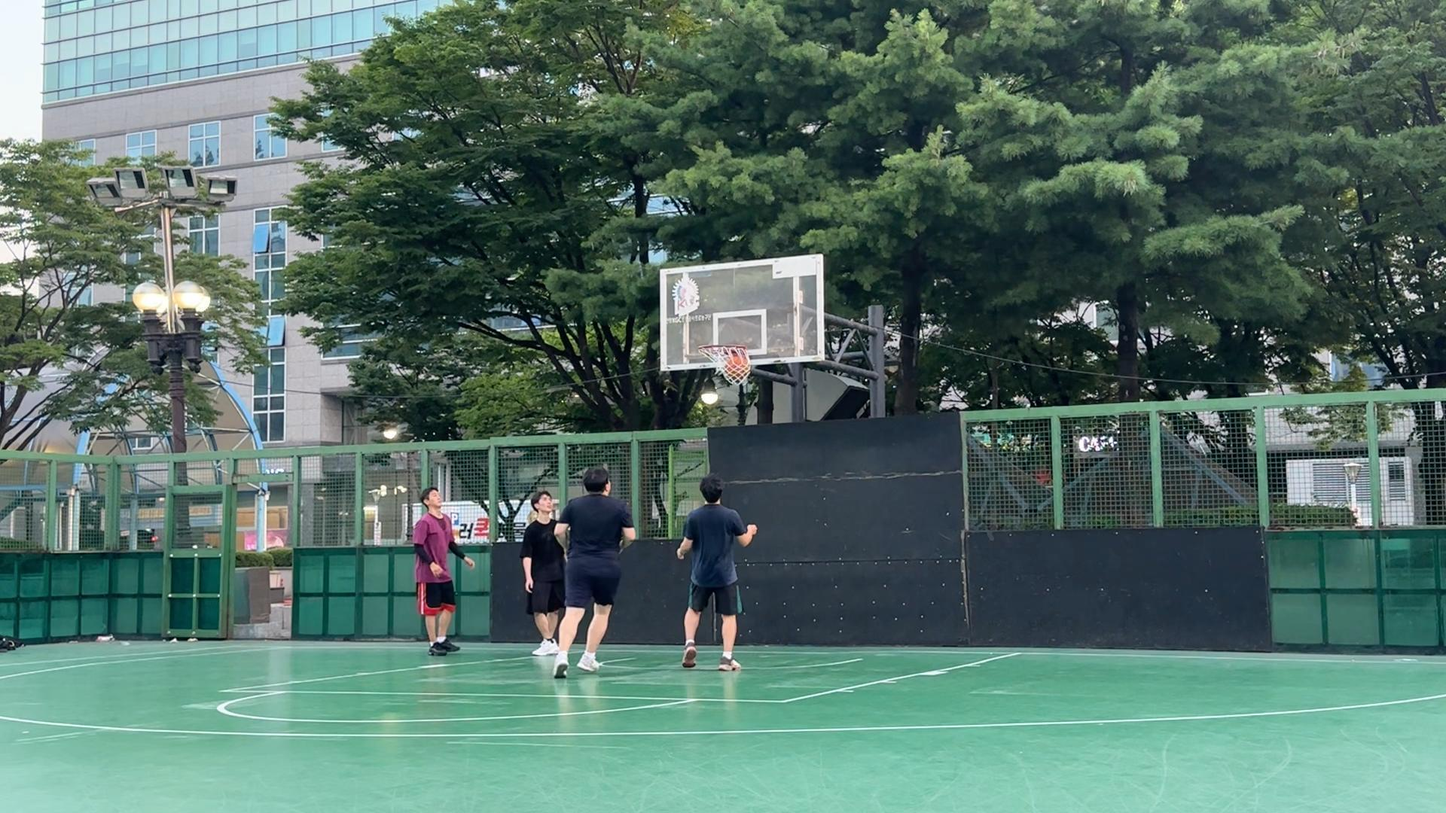ball: (725, 355, 751, 381)
human: (552, 466, 636, 678), (676, 475, 758, 672), (412, 486, 475, 656), (519, 489, 567, 656)
rim: (698, 344, 752, 387)
